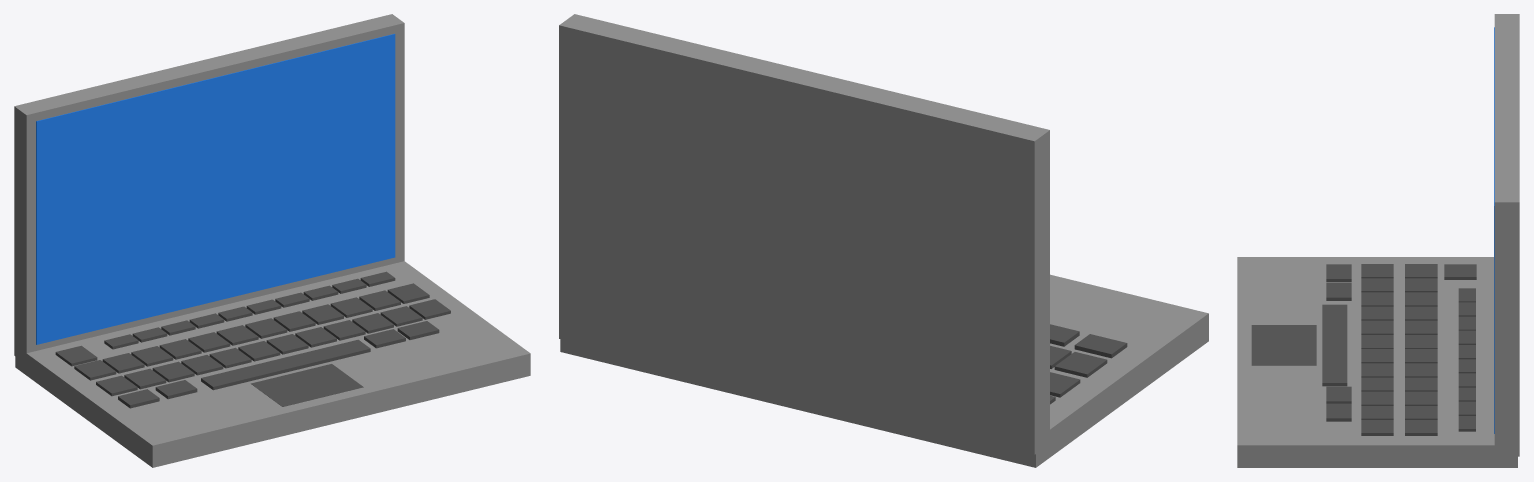
The model's file is laptopModel.gltf.
3 renders of one model, left to right at view 1: azimuth 30°, elevation 25°; view 2: azimuth 150°, elevation 25°; view 3: azimuth 270°, elevation 25°, orthographic. The views are drawn at different scales.
Parts seen in each view (by area): view 1: screen, bottompart, laptopbackscreen, keyboard, Cube 15, Cube 11, Cube 8, Cube 7, Cube 4; view 2: laptopbackscreen, bottompart, Cube 8, Cube 10; view 3: bottompart, keyboard, laptopbackscreen, Cube 15, Cube 11, Cube 4, Cube 8, Cube 7, Cube 14, Cube 10, Cube 13, Cube 12 (+1 smaller).
Boxes of the visible parts, x1,y1,x2,y2 form: screen: (36, 33, 395, 344); bottompart: (15, 261, 530, 467); laptopbackscreen: (14, 14, 404, 364); keyboard: (102, 271, 450, 389); Cube 15: (251, 364, 363, 406); Cube 11: (201, 339, 370, 390); Cube 8: (96, 375, 137, 396); Cube 7: (74, 360, 116, 380); Cube 4: (55, 345, 97, 366); laptopbackscreen: (559, 14, 1049, 454); bottompart: (560, 274, 1208, 467); Cube 8: (1054, 352, 1107, 377); Cube 10: (1074, 334, 1127, 358); bottompart: (1237, 257, 1517, 467); keyboard: (1361, 278, 1475, 435); laptopbackscreen: (1494, 14, 1519, 456); Cube 15: (1251, 325, 1316, 365); Cube 11: (1322, 304, 1347, 386); Cube 4: (1444, 264, 1476, 279); Cube 8: (1361, 264, 1393, 278); Cube 7: (1405, 264, 1437, 278); Cube 14: (1326, 403, 1351, 421); Cube 10: (1326, 264, 1351, 282); Cube 13: (1326, 386, 1351, 403); Cube 12: (1326, 283, 1351, 300).
Bounding box in the file's own units: 3.73 × 2.45 × 2.37.
